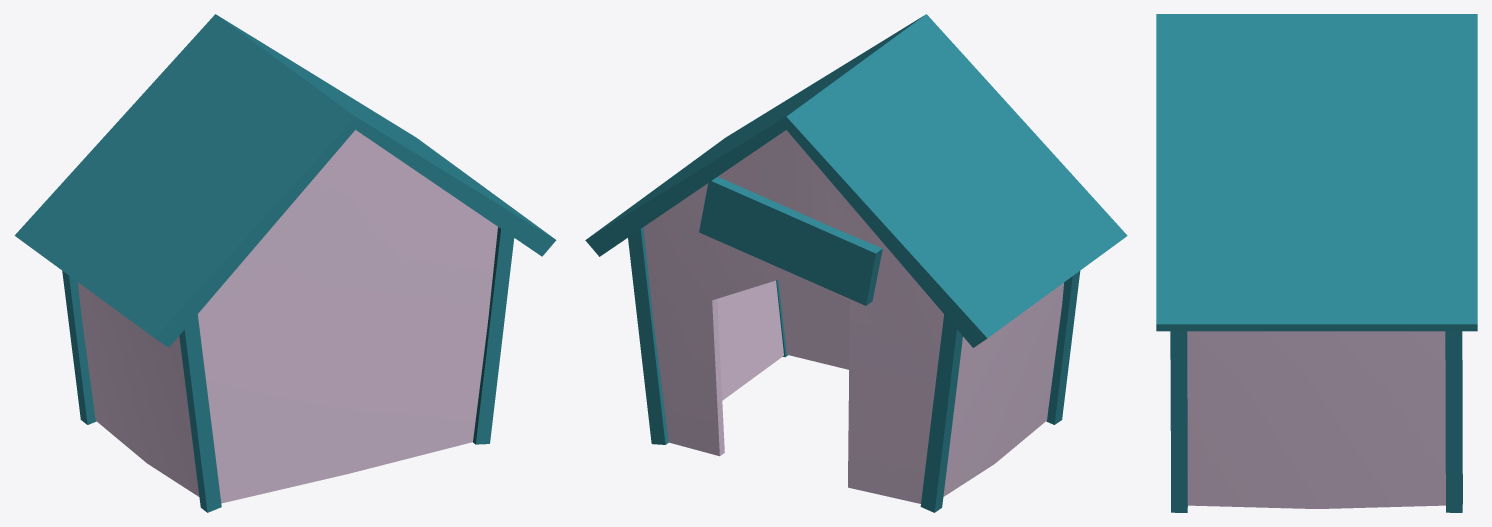
Rendered from dog_ house.fbx.
3 renders of one model, left to right at view 1: azimuth 30°, elevation 25°; view 2: azimuth 150°, elevation 25°; view 3: azimuth 270°, elevation 25°, orthographic. The views are drawn at different scales.
Visible parts, largest first — view 1: polySurface6; view 2: polySurface6; view 3: polySurface6.
Part boxes in pixels (x1,y1,x2,y2): polySurface6: (14,14,556,512); polySurface6: (585,14,1127,512); polySurface6: (1156,14,1477,512).
Bounding box in the file's own units: 2 × 1.75 × 1.21.
